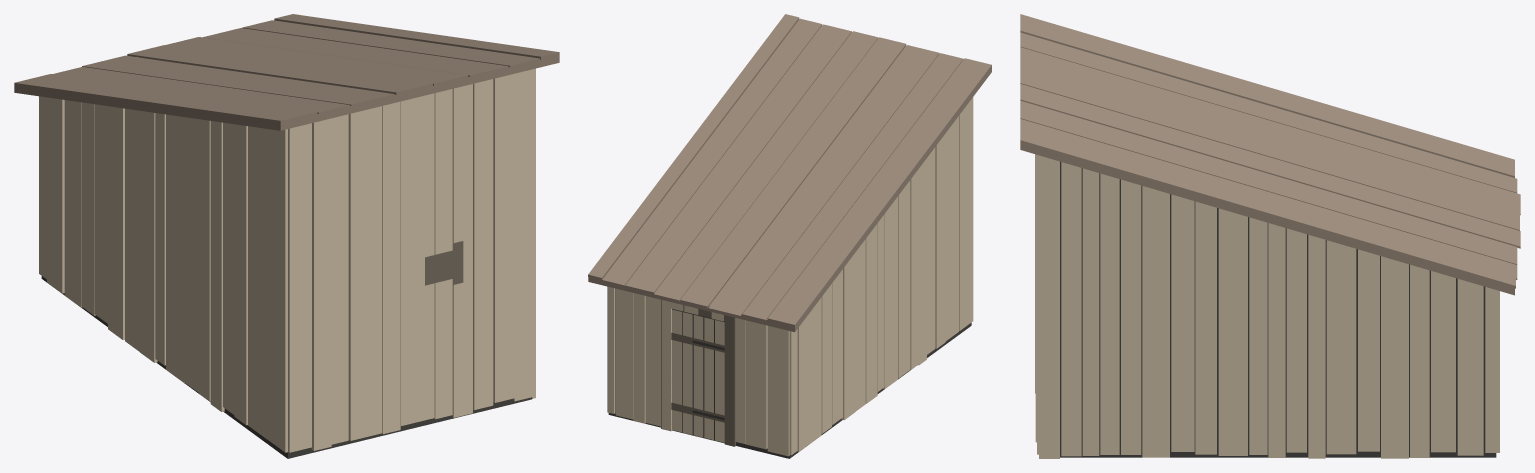
Rendered from recon_1835_blk_washington_franklin_a4_12__inferred_1835.glb.
3 renders of one model, left to right at view 1: azimuth 30°, elevation 25°; view 2: azimuth 150°, elevation 25°; view 3: azimuth 270°, elevation 25°, orthographic. The views are drawn at different scales.
Parts seen in each view (by area): view 1: recon_1835_blk_washington_franklin_a4_12__inferred_1835; view 2: recon_1835_blk_washington_franklin_a4_12__inferred_1835; view 3: recon_1835_blk_washington_franklin_a4_12__inferred_1835.
Part boxes in pixels (x1=…): recon_1835_blk_washington_franklin_a4_12__inferred_1835: x1=14, y1=14, x2=559, y2=458; recon_1835_blk_washington_franklin_a4_12__inferred_1835: x1=588, y1=14, x2=991, y2=458; recon_1835_blk_washington_franklin_a4_12__inferred_1835: x1=1020, y1=14, x2=1520, y2=458.
Bounding box in the file's own units: 3.31 × 3.96 × 5.52.
